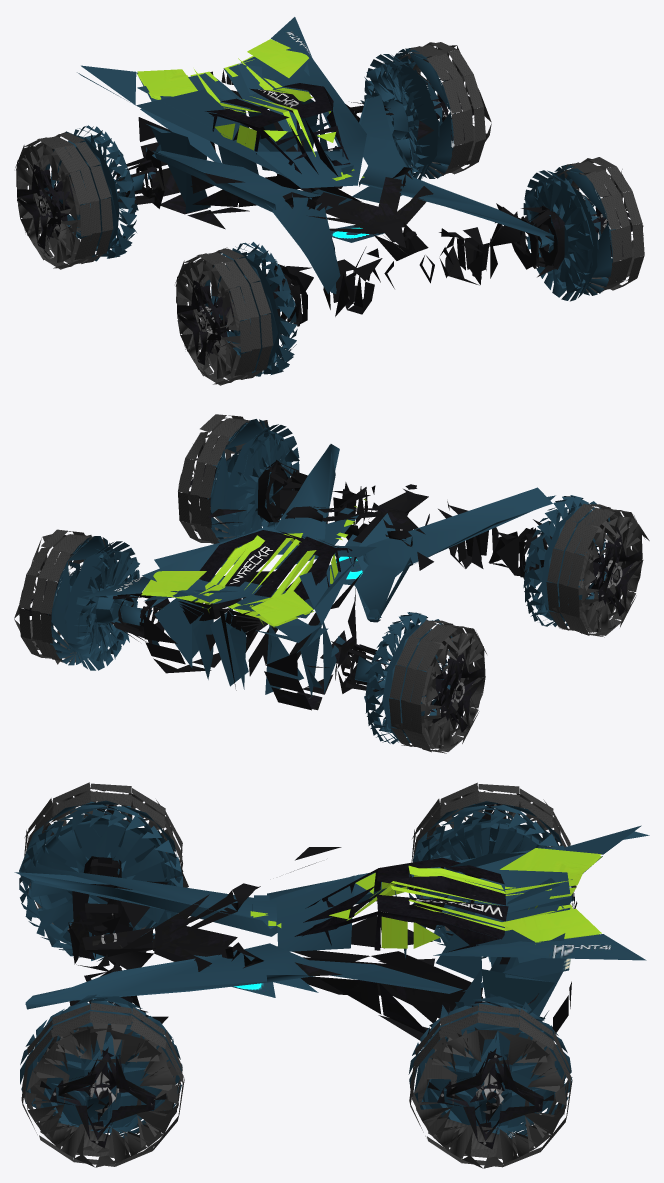
File: auto.glb
3 renders of one model, top to bottom at view 1: azimuth 30°, elevation 25°; view 2: azimuth 150°, elevation 25°; view 3: azimuth 270°, elevation 25°, orthographic. The views are drawn at different scales.
Parts seen in each view (by area): view 1: Auto; view 2: Auto; view 3: Auto.
Part boxes in pixels (x1,y1,x2,y2): Auto: (15,17,644,385); Auto: (14,414,649,753); Auto: (14,782,649,1168).
Size of the model in its own units: 1.81 by 0.5542 by 1.89.
6 materials, 6 textured.
